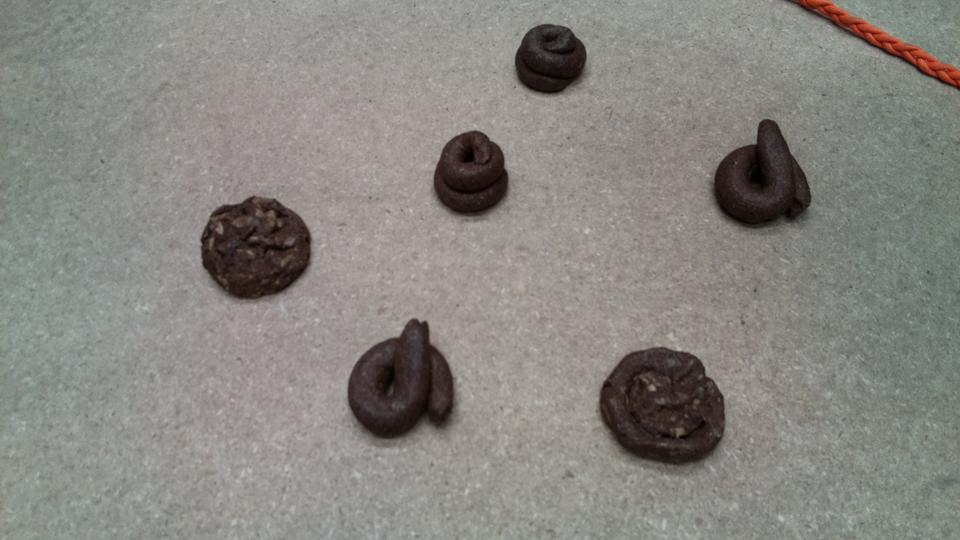poop: (598, 344, 730, 465), (344, 315, 458, 441), (196, 193, 315, 303), (711, 114, 815, 230), (431, 128, 512, 218), (513, 19, 589, 98)
rope: (805, 1, 960, 85)
